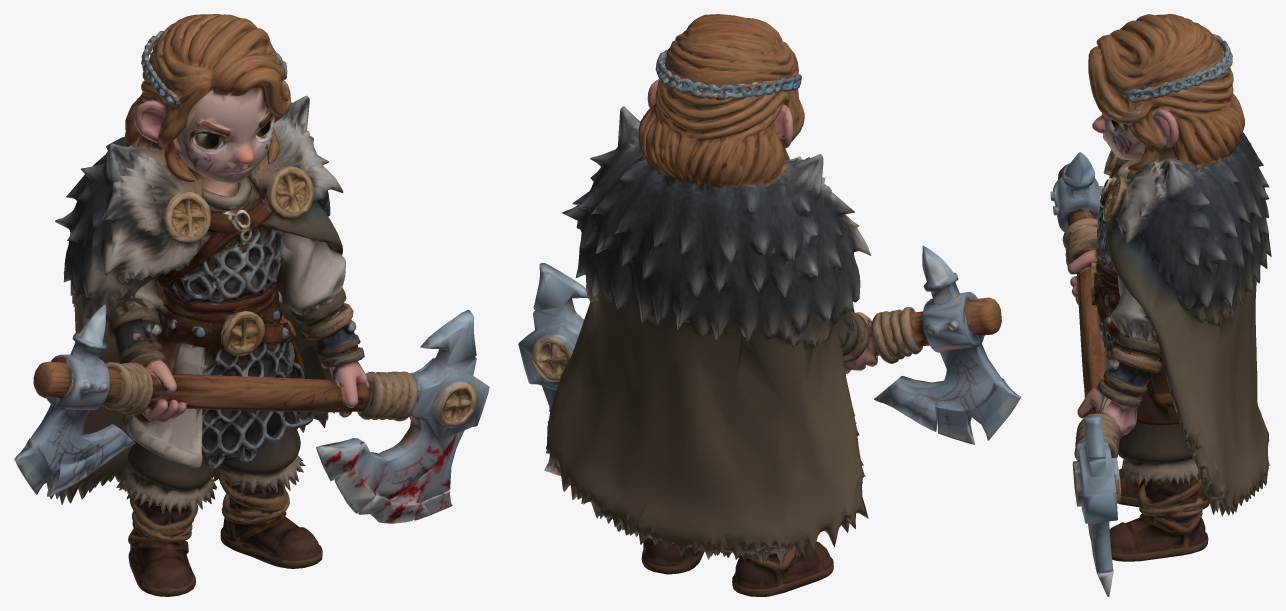
File: featured_unit_runtime.glb
The picture shows the model from 3 angles, left to right: view 1: azimuth 30°, elevation 25°; view 2: azimuth 150°, elevation 25°; view 3: azimuth 270°, elevation 25°; orthographic projection. The views are drawn at different scales.
Visible parts, largest first — view 1: texture_pbr_v128; view 2: texture_pbr_v128; view 3: texture_pbr_v128.
Part boxes in pixels (<box>): texture_pbr_v128: <box>14,14,489,596</box>; texture_pbr_v128: <box>518,14,1021,596</box>; texture_pbr_v128: <box>1050,14,1271,596</box>.
Size of the model in its own units: 0.8942 by 0.9576 by 0.3825.
1 material, 1 textured.
